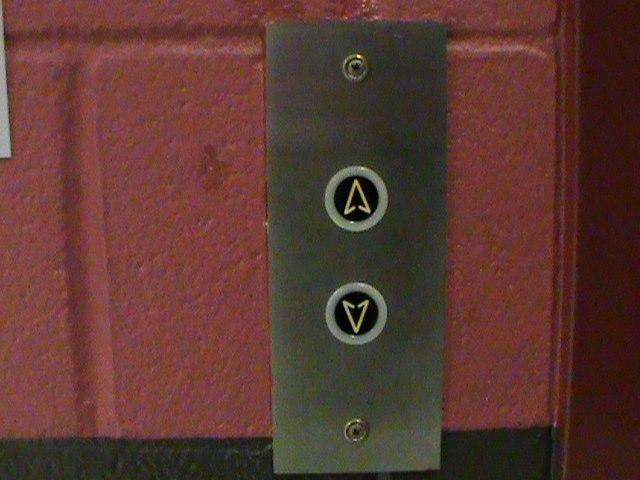down: (323, 280, 391, 349)
up: (322, 163, 390, 234)
